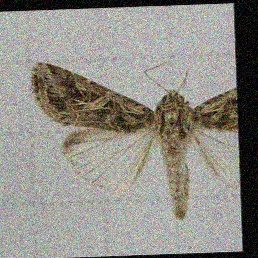Spodoptera litura: (31, 58, 239, 222)
